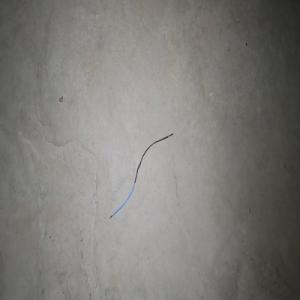Wire: (109, 132, 173, 219)
